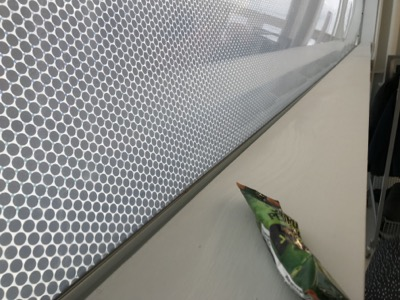peanut: (235, 180, 350, 300)
